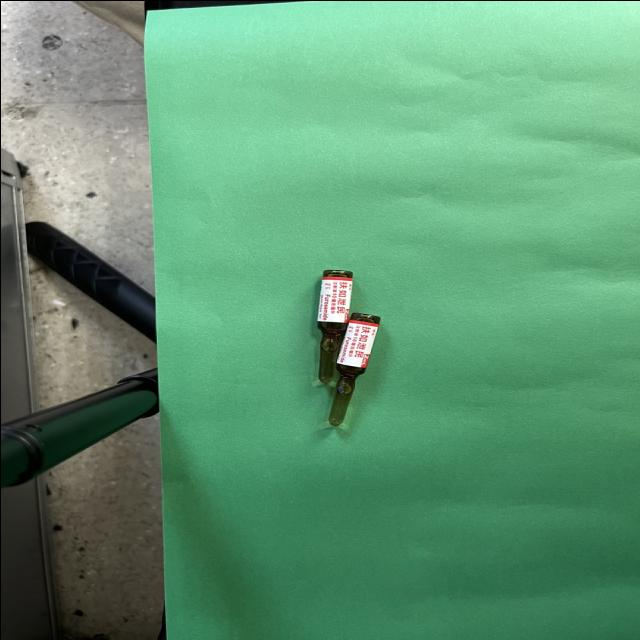Ampoules: (327, 311, 380, 426), (316, 269, 352, 384)
